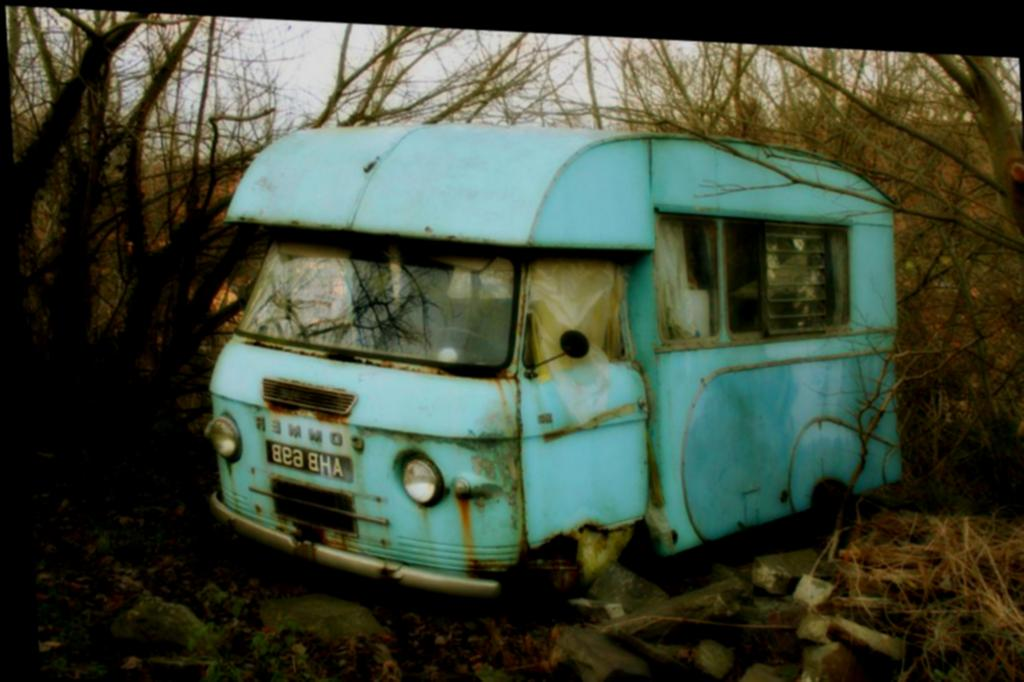License_Plate: (265, 443, 352, 483)
